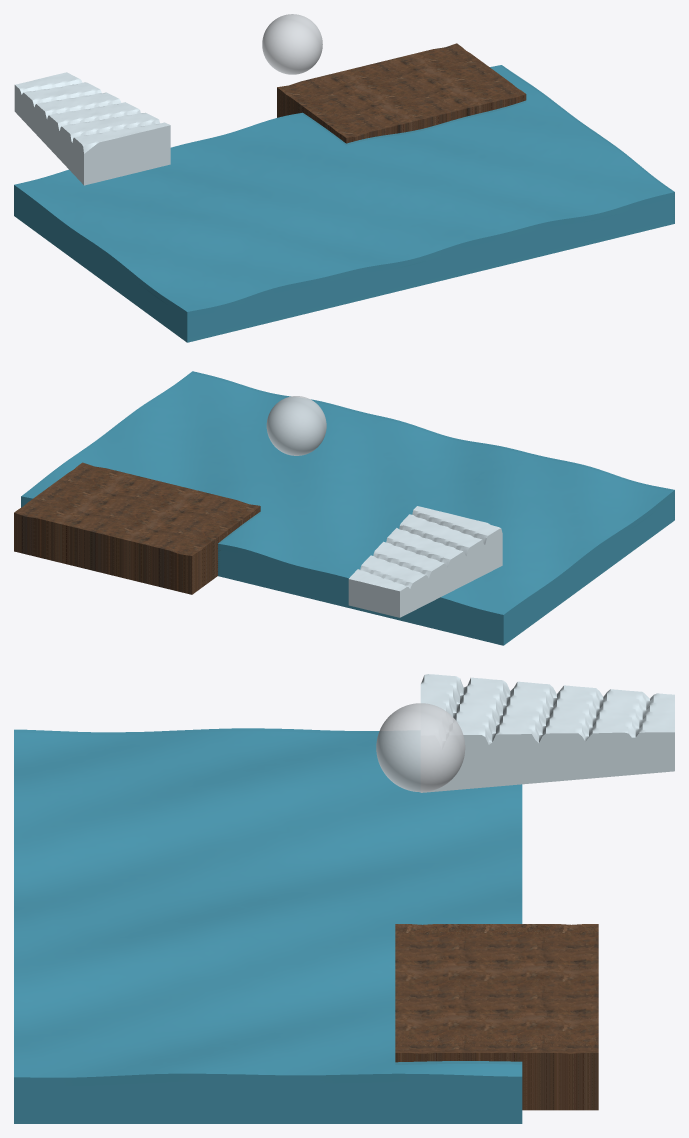
Rendered from water-cycle.glb.
3 renders of one model, top to bottom at view 1: azimuth 30°, elevation 25°; view 2: azimuth 150°, elevation 25°; view 3: azimuth 270°, elevation 25°, orthographic. The views are drawn at different scales.
Visible parts, largest first — view 1: Cycle_Ocean, Cycle_Groundwater, Cycle_Glacier, Cycle_Atmosphere; view 2: Cycle_Ocean, Cycle_Groundwater, Cycle_Glacier, Cycle_Atmosphere; view 3: Cycle_Ocean, Cycle_Groundwater, Cycle_Glacier, Cycle_Atmosphere.
Part boxes in pixels (box(x1,y1,x2,y2)): Cycle_Ocean: box(14, 65, 674, 342); Cycle_Groundwater: box(277, 43, 526, 143); Cycle_Glacier: box(14, 72, 170, 185); Cycle_Atmosphere: box(262, 14, 322, 74); Cycle_Ocean: box(21, 371, 674, 645); Cycle_Groundwater: box(14, 462, 260, 594); Cycle_Glacier: box(348, 506, 502, 617); Cycle_Atmosphere: box(266, 396, 326, 455); Cycle_Ocean: box(14, 728, 522, 1123); Cycle_Groundwater: box(395, 924, 598, 1110); Cycle_Glacier: box(420, 674, 674, 792); Cycle_Atmosphere: box(376, 703, 465, 792).
Bounding box in the file's own units: 6.5 × 2.1 × 5.2.
Materials: 4 (1 with a texture image).
